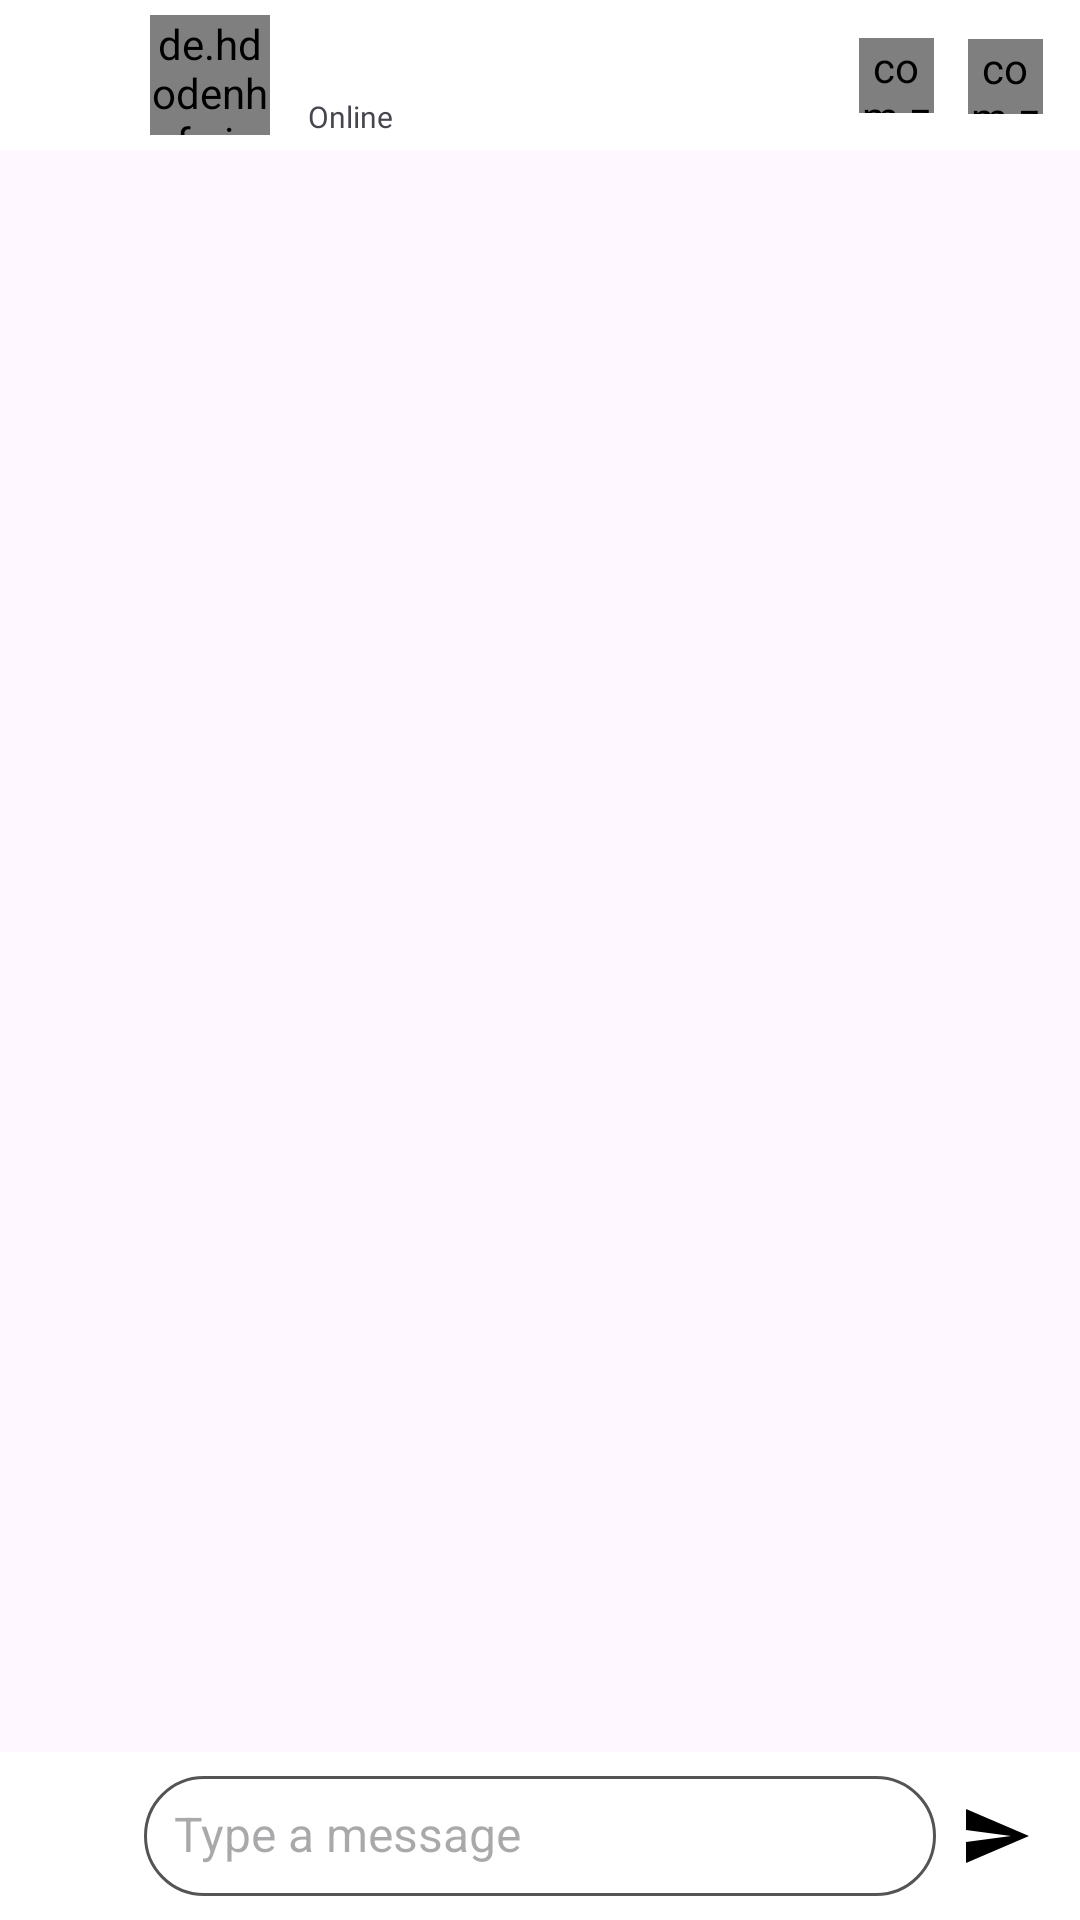

Where icons sit on this 1080x1920 app screen, as bbox(x1, y1, x2, y2):
Send: bbox(966, 1809, 1029, 1863)
